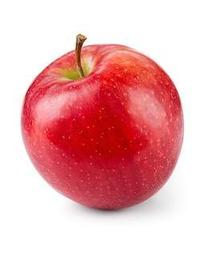apple: (21, 34, 184, 209)
